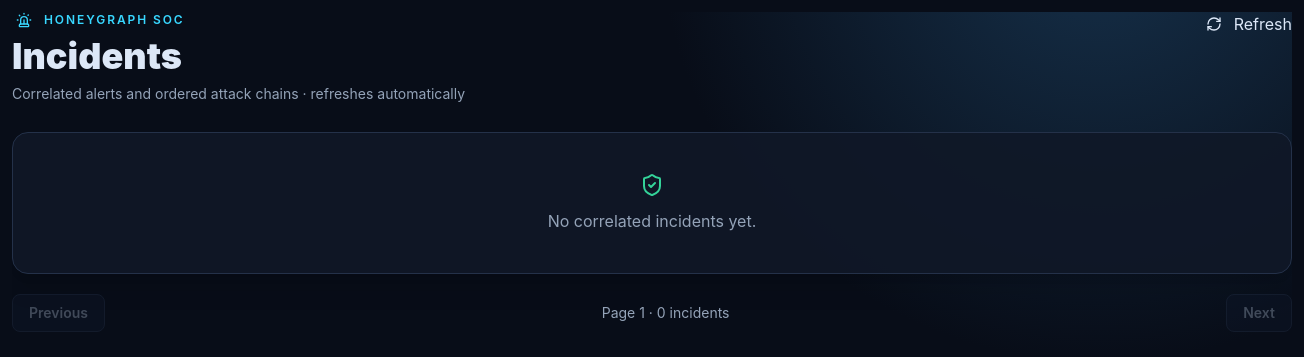
Test: incident screen recovery › can refresh the incident list after a scenario completes
Check: the text "No correlated incidents yet." is shown, box [548,211,756,231]
Click the button "Refresh" at (1247, 24), box [1202,12,1292,36]
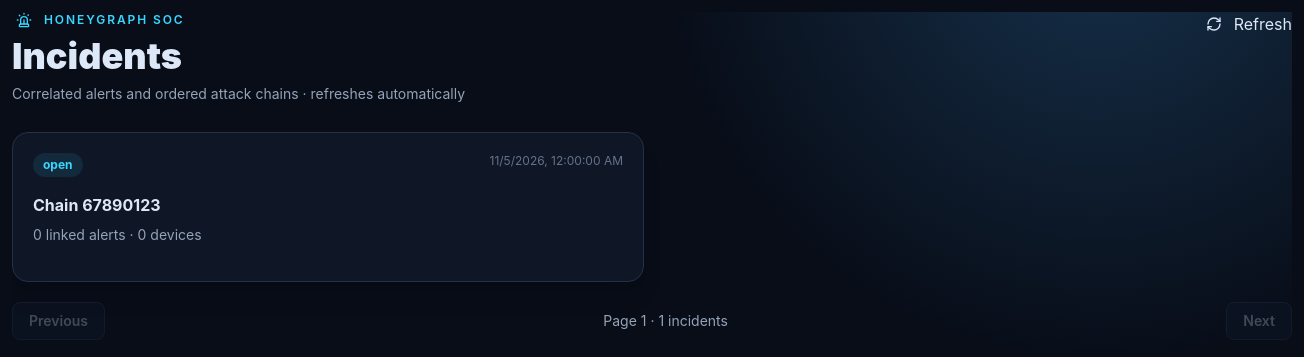
Check: the heading "Chain 67890123" is shown, box [33,195,160,215]
